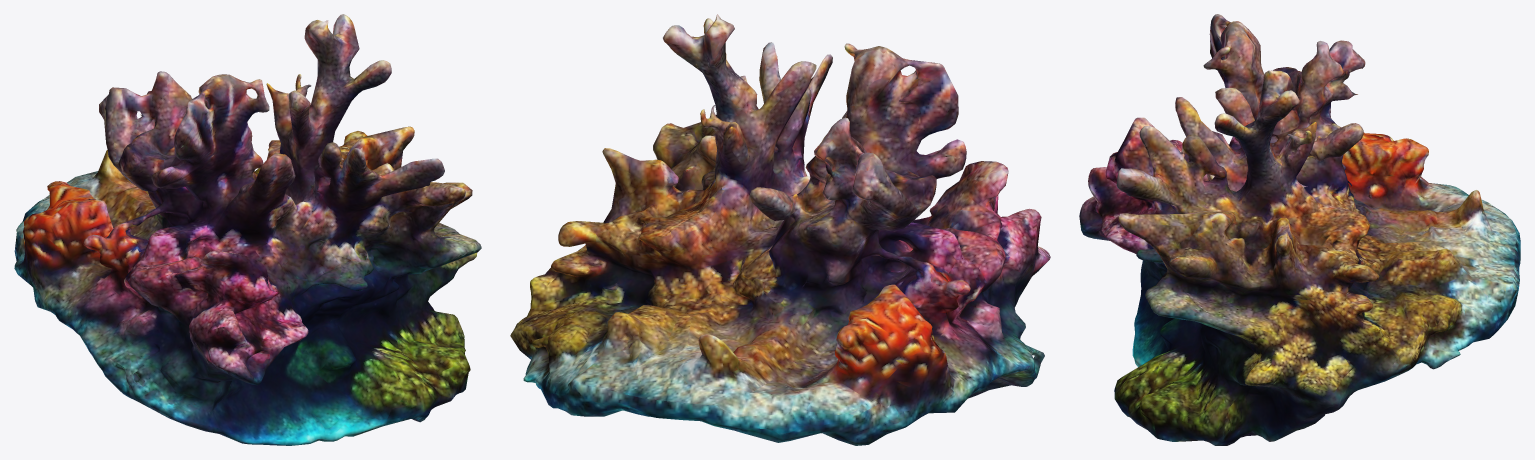
The model's file is coral_reef.glb.
The picture shows the model from 3 angles, left to right: view 1: azimuth 30°, elevation 25°; view 2: azimuth 150°, elevation 25°; view 3: azimuth 270°, elevation 25°; orthographic projection. The views are drawn at different scales.
Parts seen in each view (by area): view 1: Object_4.003; view 2: Object_4.003; view 3: Object_4.003.
Boxes of the visible parts, x1=… form: Object_4.003: x1=14, y1=14, x2=481, y2=445; Object_4.003: x1=510, y1=14, x2=1050, y2=445; Object_4.003: x1=1079, y1=14, x2=1520, y2=445.
Bounding box in the file's own units: 5.89 × 5.1 × 6.
Materials: 1 (1 with a texture image).
